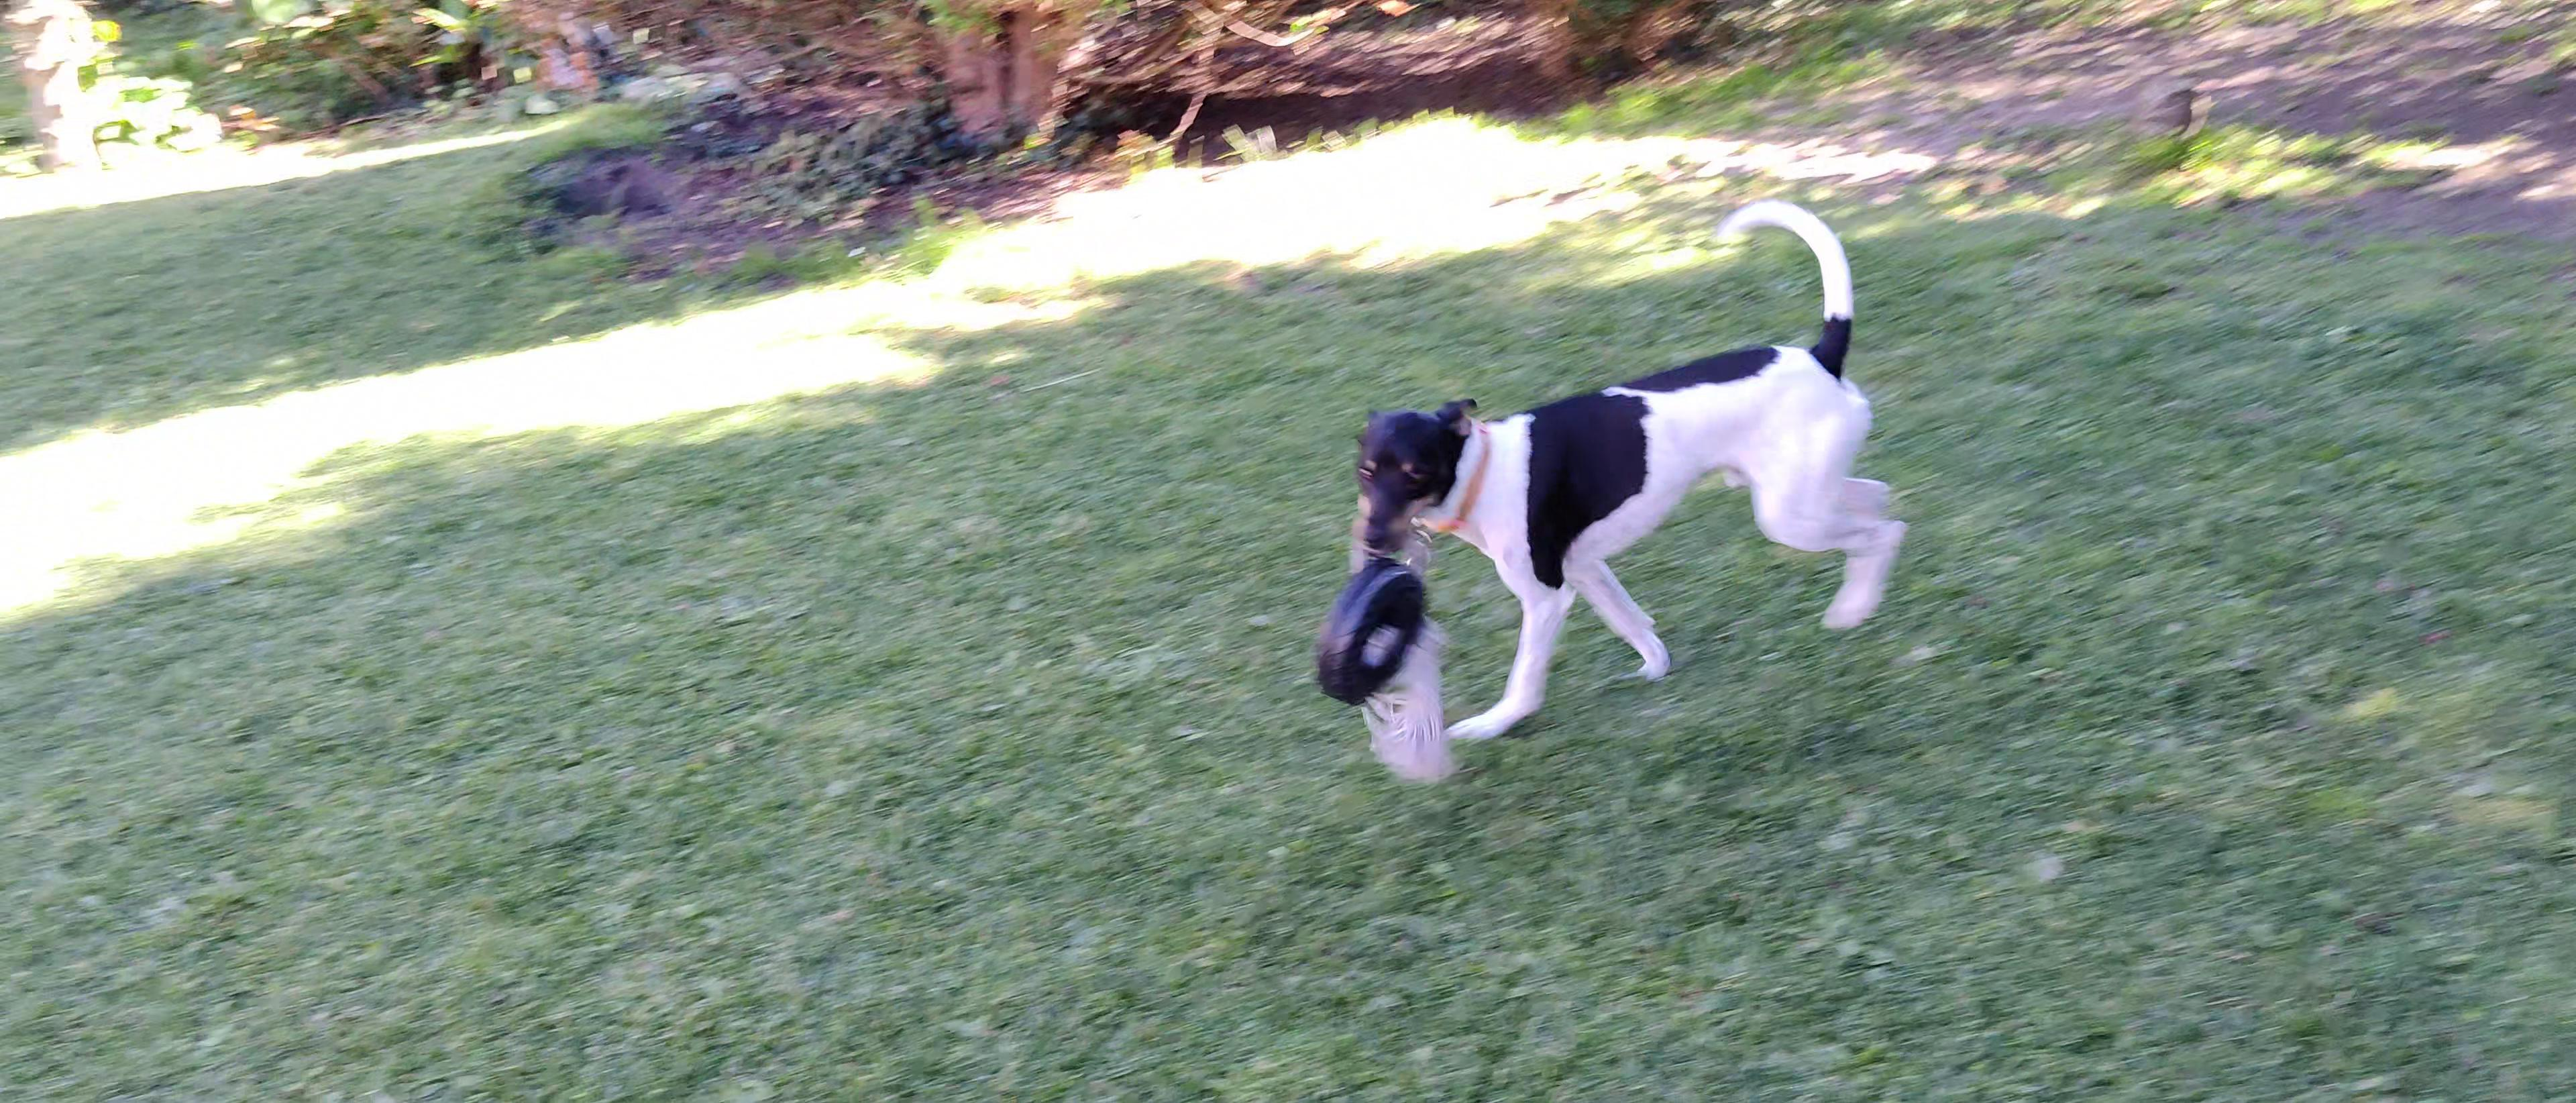Dog: (1342, 191, 1912, 748)
